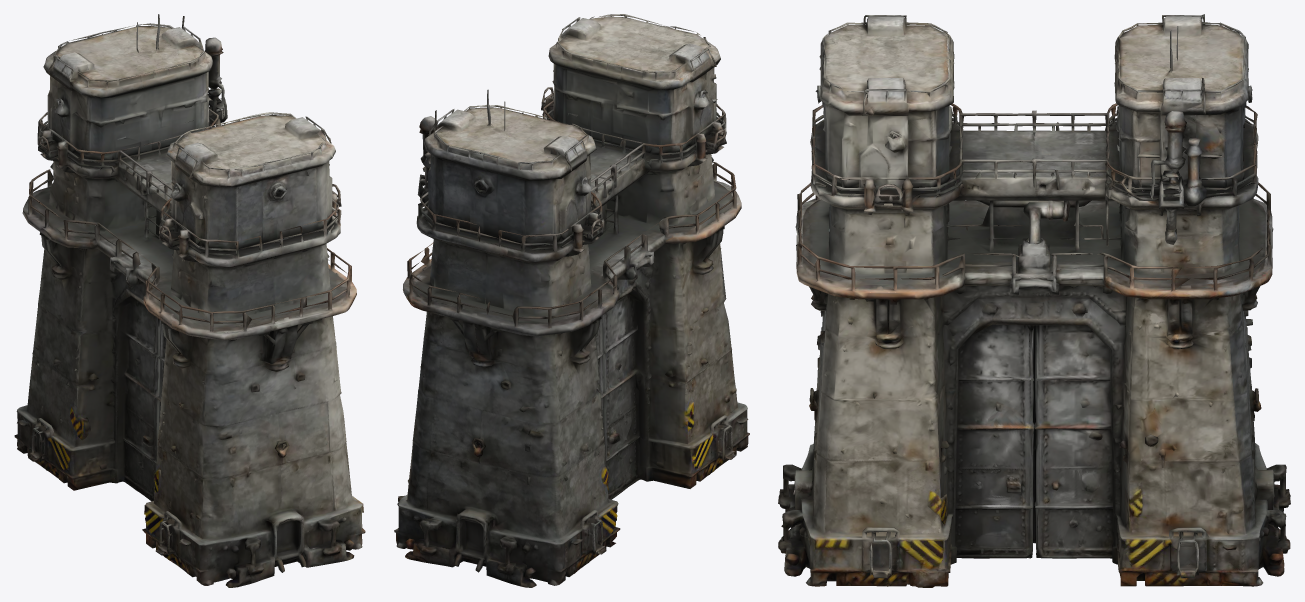
File: fort_foundry_gate.glb
The picture shows the model from 3 angles, left to right: view 1: azimuth 30°, elevation 25°; view 2: azimuth 150°, elevation 25°; view 3: azimuth 270°, elevation 25°; orthographic projection. The views are drawn at different scales.
Parts seen in each view (by area): view 1: tripo_node_e175f360-f258-4552-a573-751b7857b8cc; view 2: tripo_node_e175f360-f258-4552-a573-751b7857b8cc; view 3: tripo_node_e175f360-f258-4552-a573-751b7857b8cc.
Part boxes in pixels (x1,y1,x2,y2): tripo_node_e175f360-f258-4552-a573-751b7857b8cc: (14, 14, 365, 587); tripo_node_e175f360-f258-4552-a573-751b7857b8cc: (394, 14, 749, 587); tripo_node_e175f360-f258-4552-a573-751b7857b8cc: (778, 14, 1290, 587).
Size of the model in its own units: 0.4591 by 1 by 0.8862.
Materials: 1 (1 with a texture image).
